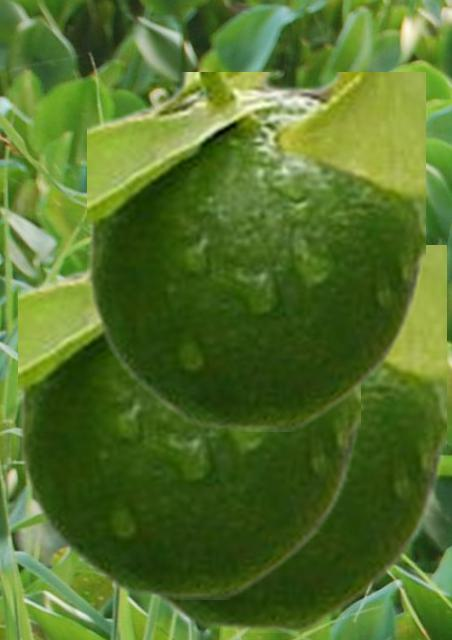dalandan: (87, 72, 424, 430), (18, 261, 359, 598), (148, 245, 445, 631)
